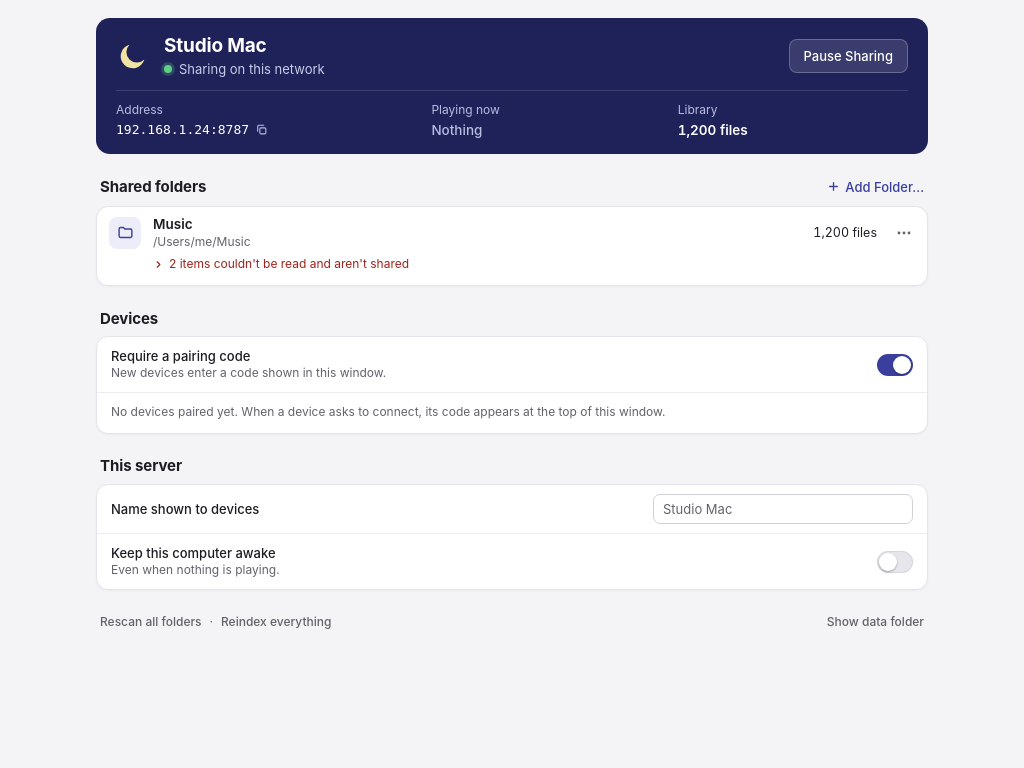
Test: status and extras › scan errors are listed behind a disclosure
Click the heading "2 items couldn't be read and aren't shared".
click(281, 265)  # box [153, 256, 409, 273]
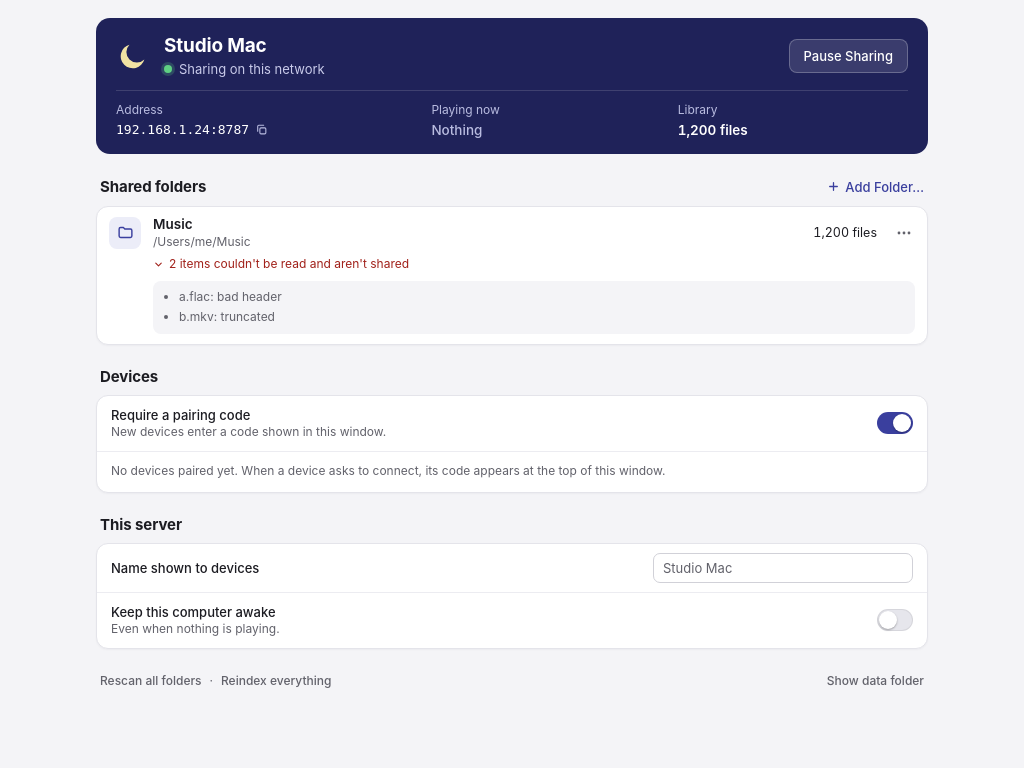
Expected: the list item "b.mkv: truncated" is shown, [179, 309, 275, 324]
